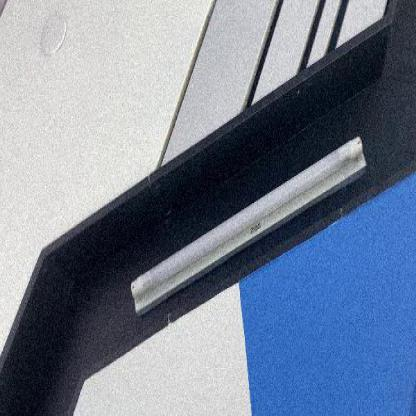light_off: (119, 119, 371, 353)
